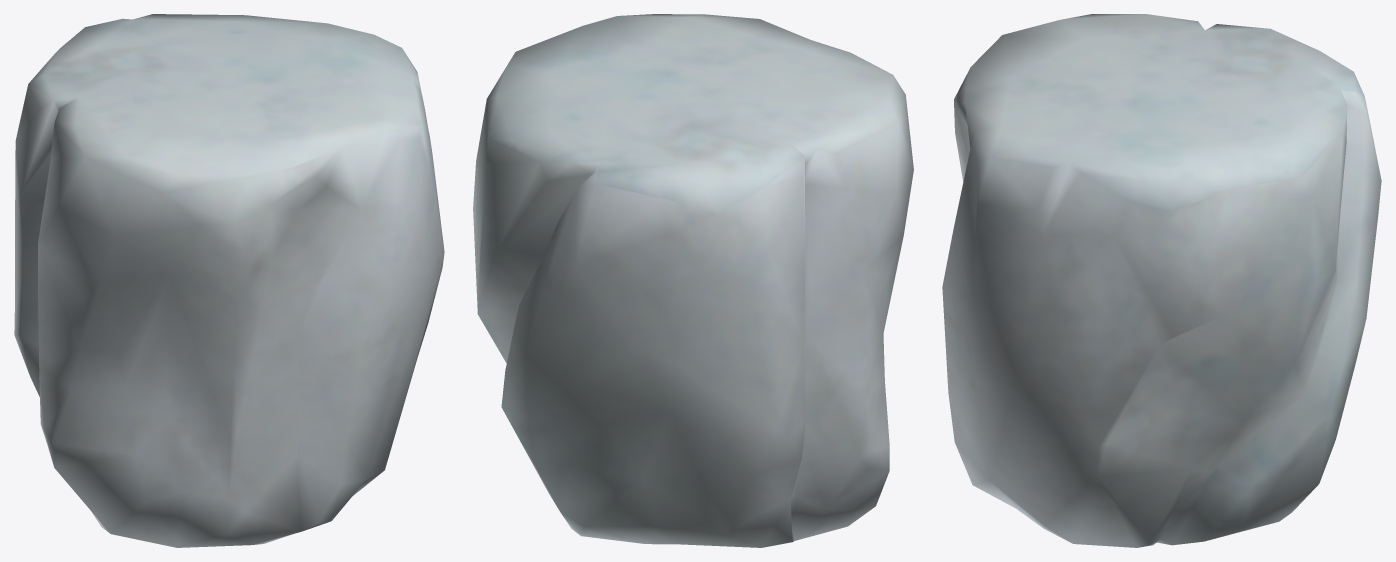
The model's file is P_CliffClassic1.obj.
3 renders of one model, left to right at view 1: azimuth 30°, elevation 25°; view 2: azimuth 150°, elevation 25°; view 3: azimuth 270°, elevation 25°, orthographic. The views are drawn at different scales.
Bounding box in the file's own units: 43.91 × 46.55 × 44.43.
